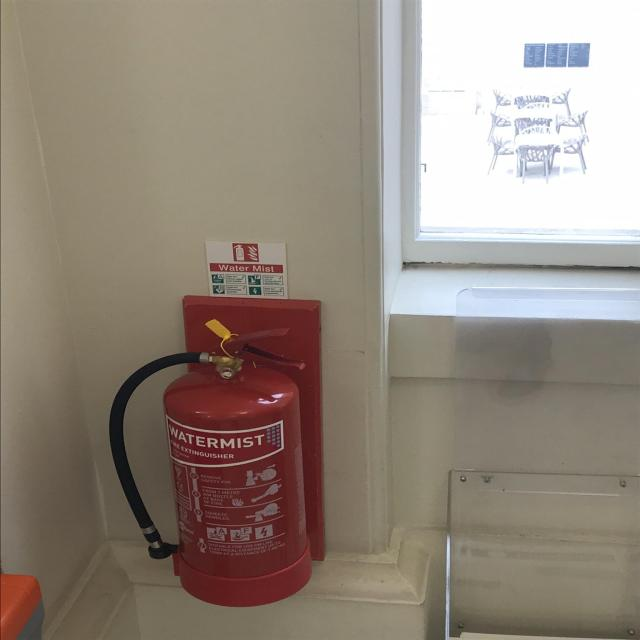Fire-Extinguisher: (103, 296, 335, 607)
